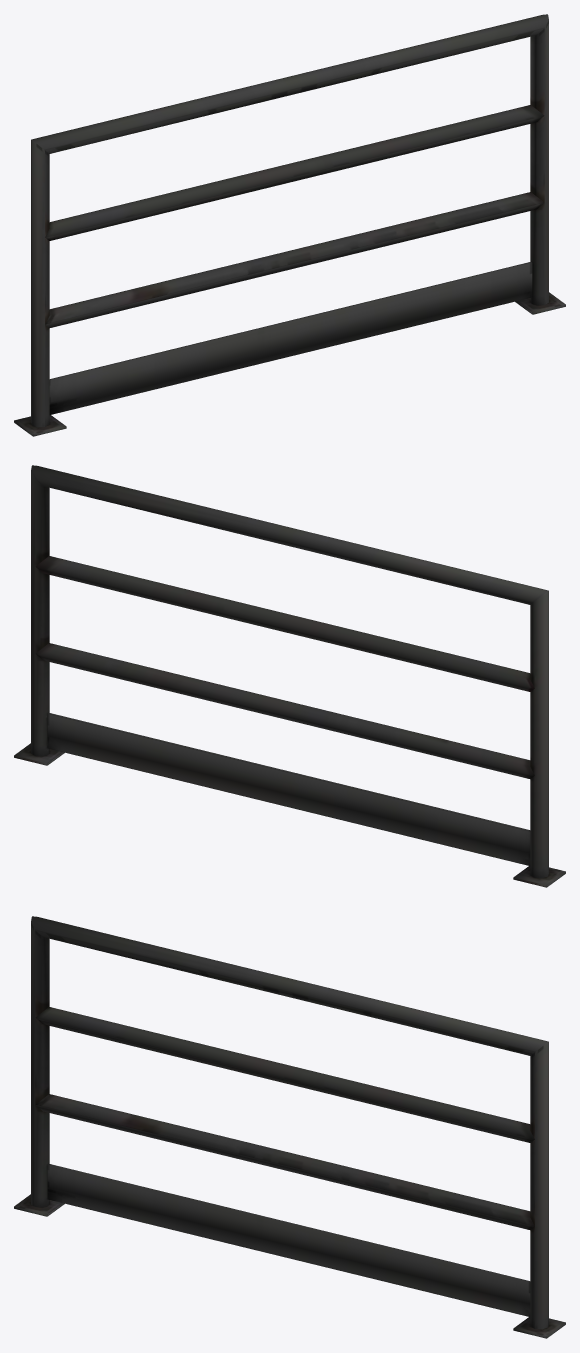
3 renders of one model, top to bottom at view 1: azimuth 30°, elevation 25°; view 2: azimuth 150°, elevation 25°; view 3: azimuth 330°, elevation 25°, orthographic.
Visible parts, largest first — view 1: body0_model0_lod0_mesh0; view 2: body0_model0_lod0_mesh0; view 3: body0_model0_lod0_mesh0.
Boxes of the visible parts, bbox=[...] form: body0_model0_lod0_mesh0: bbox=[14, 14, 565, 436]; body0_model0_lod0_mesh0: bbox=[14, 465, 565, 887]; body0_model0_lod0_mesh0: bbox=[14, 916, 565, 1338].
Size of the model in its own units: 64 by 33 by 4.
Materials: 1 (1 with a texture image).
